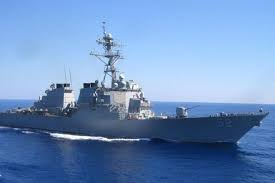tau_muctieu: (2, 47, 265, 146)
